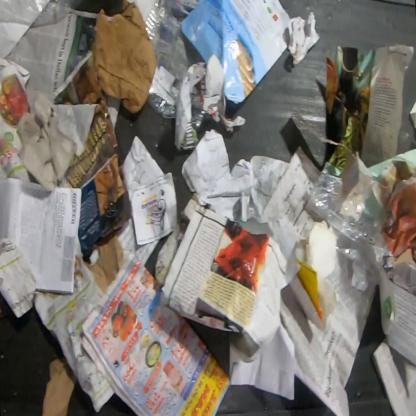cardboard: (154, 193, 290, 364), (92, 0, 156, 114), (288, 219, 340, 332), (82, 232, 124, 294), (41, 357, 78, 415)
rigid_plastic: (144, 0, 206, 118), (190, 79, 214, 133)
soft_plastic: (307, 171, 399, 335)
